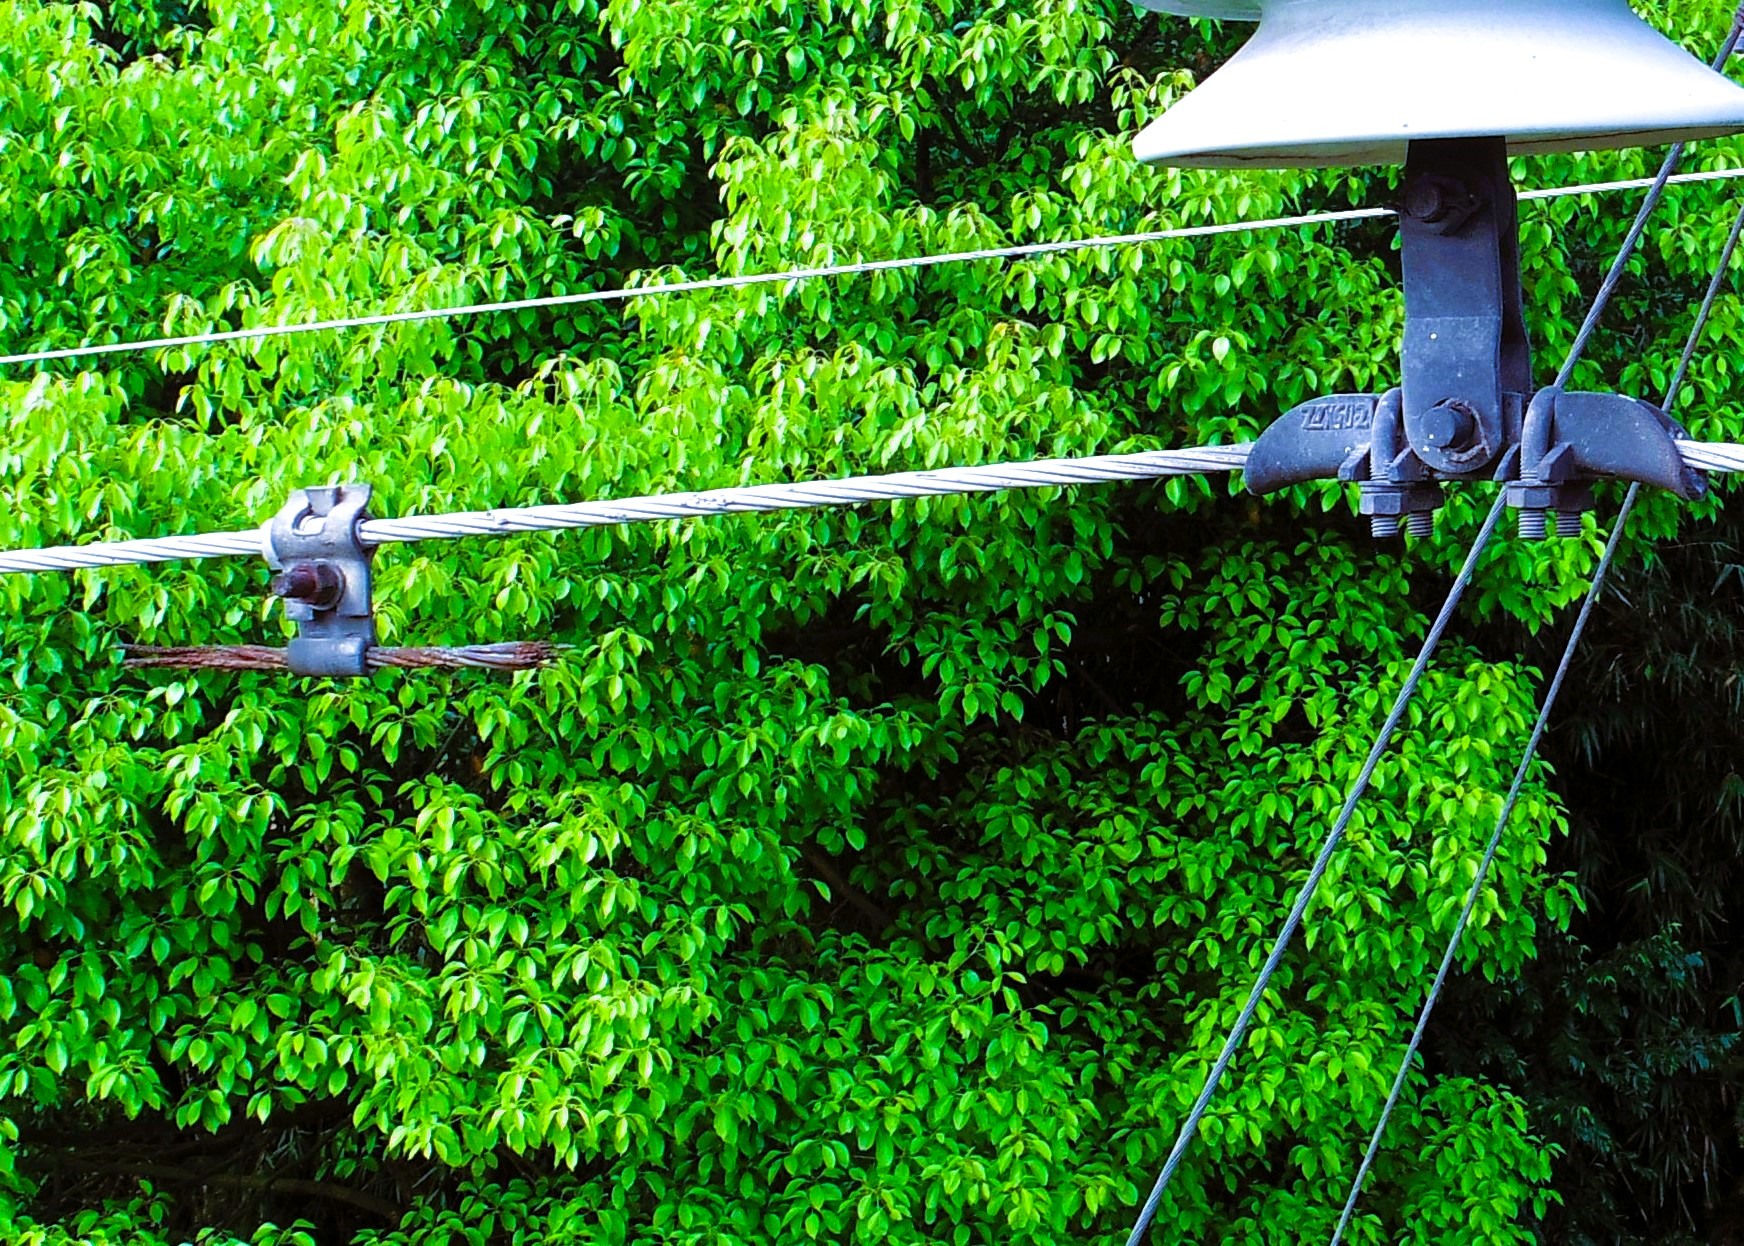Damage of shockproof hammer: (104, 465, 571, 712)
